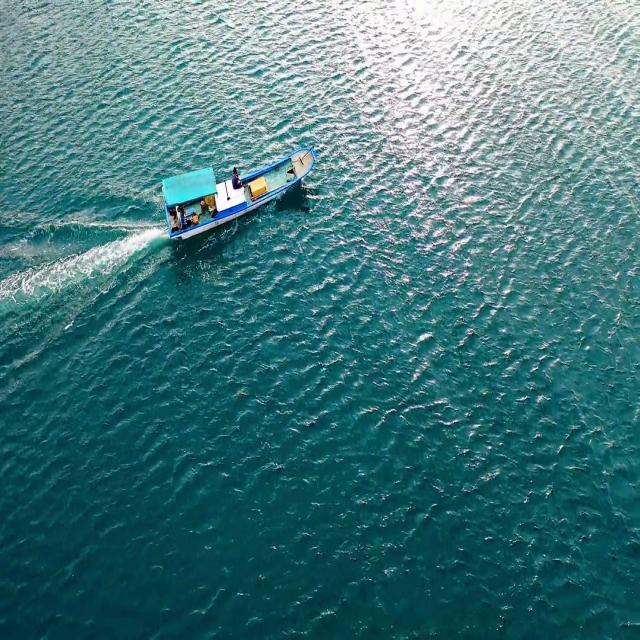ship: (152, 125, 324, 251)
